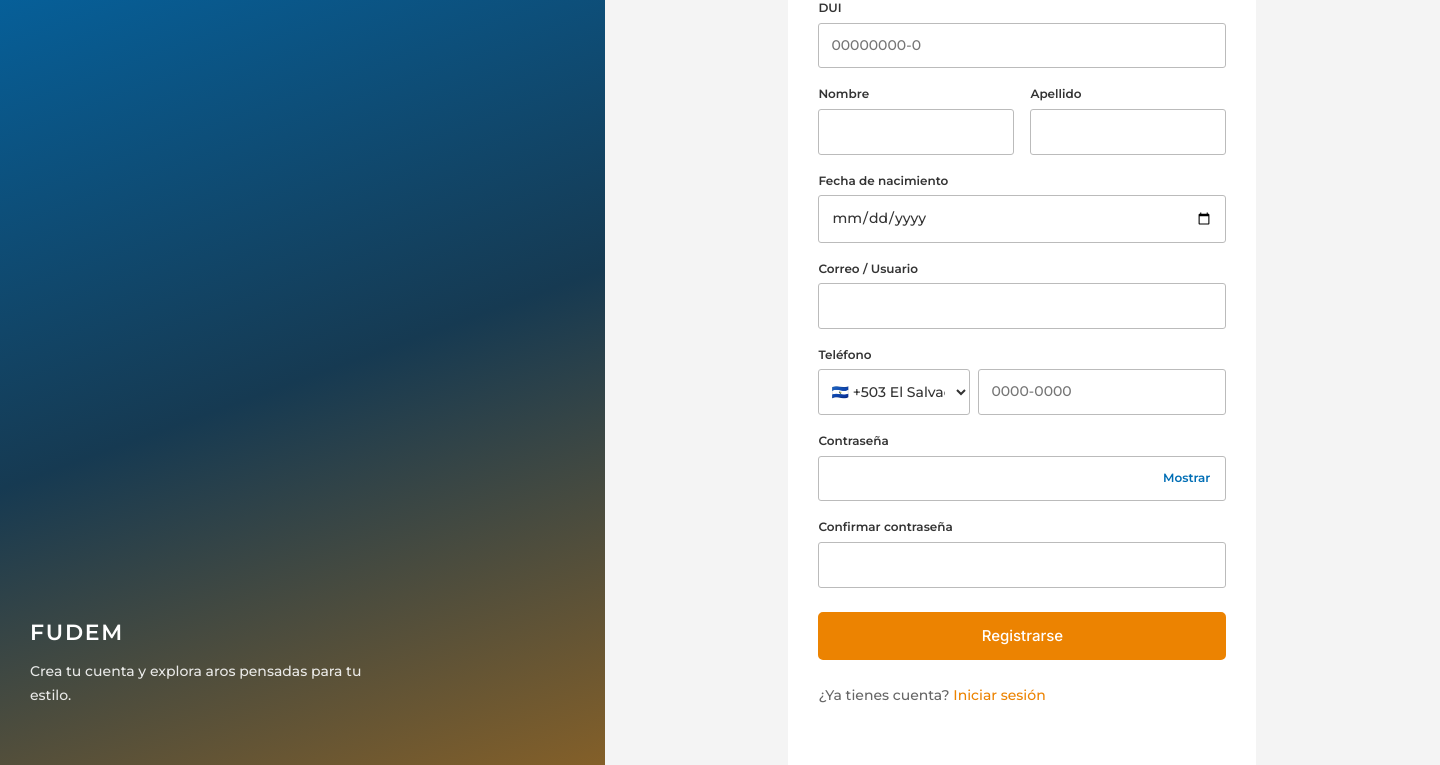
Test: formulario de registro › muestra errores de validación sin enviar
(page scrolled)
Click the button "Registrarse" at (1022, 636), box [818,612,1226,660]
(page scrolled)
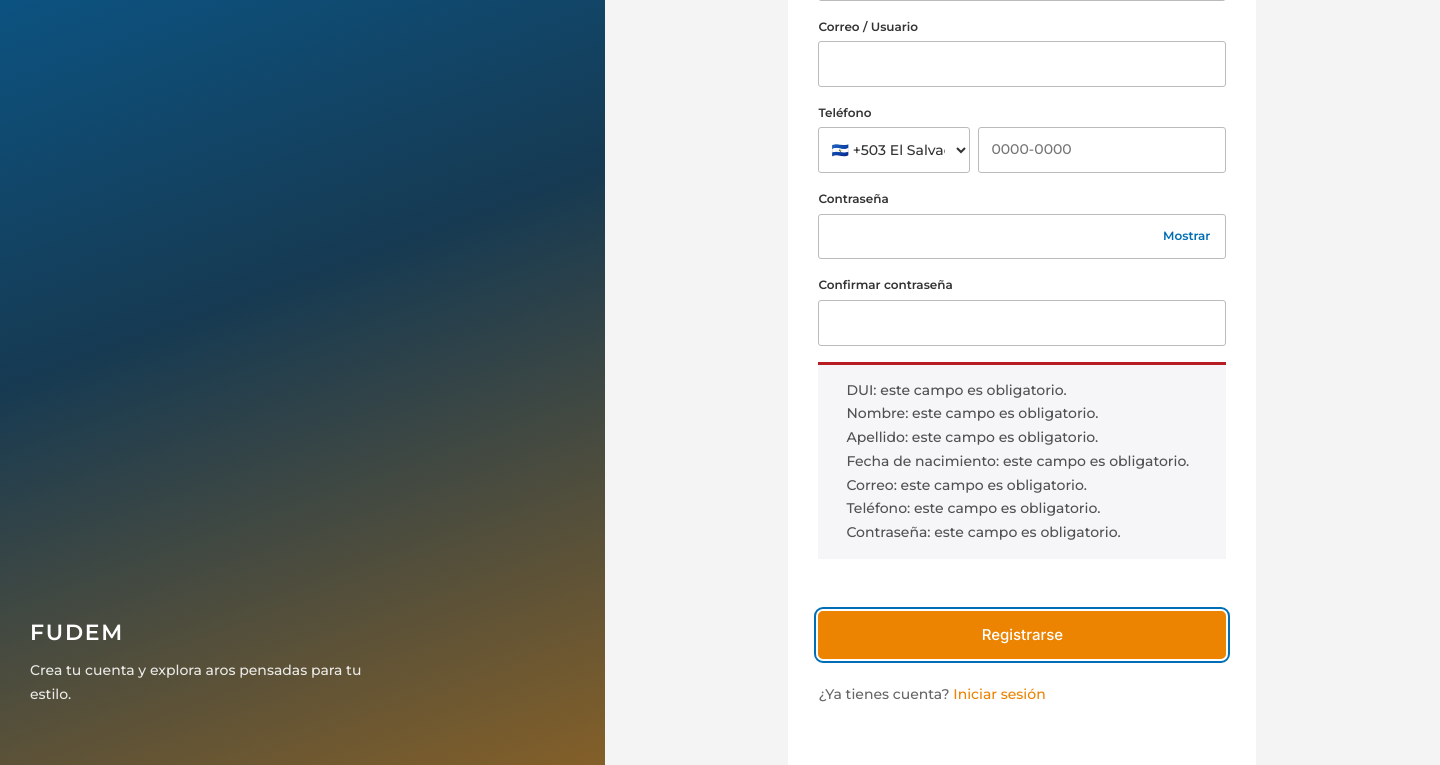
Now the message shows "DUI", box [846,380,1067,398]
Now the message shows "Contraseña", box [846,523,1121,541]
